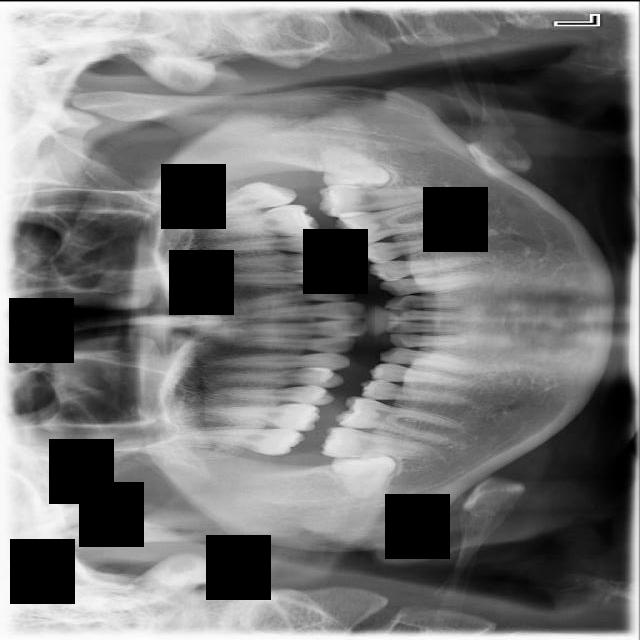73: (568, 21, 586, 25)
BioHorizons Implant: (171, 174, 301, 224)
Biomet 3i Implant: (313, 140, 392, 191)
Blue Sky Bio Implant: (318, 183, 438, 217)
Caries: (184, 427, 306, 455)
Implant: (319, 425, 434, 458)
Keystone Dental Implant: (331, 450, 399, 501)
